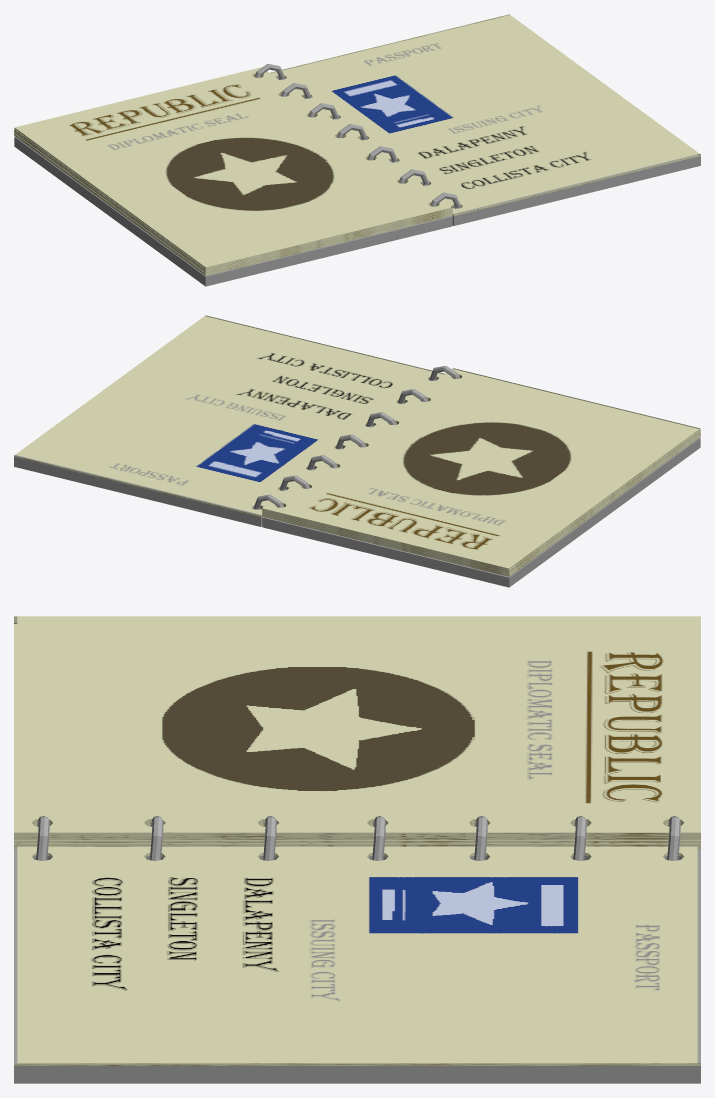
Rendered from shouce1.fbx.
3 views of the same model, one above another, from view 1: azimuth 30°, elevation 25°; view 2: azimuth 150°, elevation 25°; view 3: azimuth 270°, elevation 25° (orthographic). The views are drawn at different scales.
Visible parts, largest first — view 1: polySurface10, polySurface7, polySurface1, polySurface2, polySurface9, polySurface6, polySurface8, polySurface5, polySurface4; view 2: polySurface10, polySurface7, polySurface1, polySurface2, polySurface8, polySurface6, polySurface9, polySurface5, polySurface4; view 3: polySurface10, polySurface7, polySurface2, polySurface5, polySurface4, polySurface9, polySurface8.
Part boxes in pixels (left/top/right/bottom): polySurface10: left=14, top=67, right=452, bottom=268; polySurface7: left=270, top=14, right=700, bottom=216; polySurface1: left=14, top=136, right=452, bottom=286; polySurface2: left=276, top=77, right=700, bottom=225; polySurface9: left=14, top=74, right=452, bottom=270; polySurface6: left=14, top=133, right=452, bottom=274; polySurface8: left=14, top=76, right=452, bottom=271; polySurface5: left=14, top=132, right=452, bottom=273; polySurface4: left=14, top=135, right=452, bottom=275; polySurface10: left=262, top=368, right=700, bottom=569; polySurface7: left=14, top=315, right=444, bottom=517; polySurface1: left=262, top=437, right=700, bottom=587; polySurface2: left=14, top=378, right=437, bottom=526; polySurface8: left=262, top=377, right=700, bottom=572; polySurface6: left=262, top=434, right=700, bottom=575; polySurface9: left=262, top=375, right=700, bottom=571; polySurface5: left=262, top=433, right=700, bottom=574; polySurface4: left=262, top=436, right=700, bottom=576; polySurface10: left=14, top=616, right=700, bottom=835; polySurface7: left=14, top=846, right=700, bottom=1065; polySurface2: left=14, top=849, right=700, bottom=1083; polySurface5: left=14, top=624, right=700, bottom=843; polySurface4: left=14, top=843, right=700, bottom=846; polySurface9: left=14, top=619, right=700, bottom=837; polySurface8: left=14, top=621, right=700, bottom=839.
Size of the model in its own units: 0.9913 by 0.0645 by 0.6633.
Materials: 17 (15 with a texture image).
